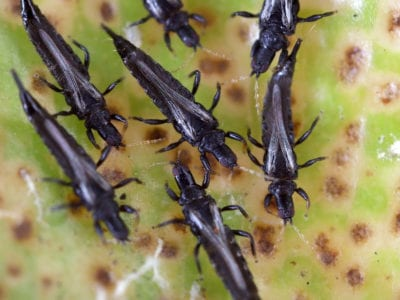Thrips: (8, 71, 126, 269), (114, 27, 243, 172), (15, 1, 118, 146), (263, 30, 326, 231), (171, 159, 256, 300)
